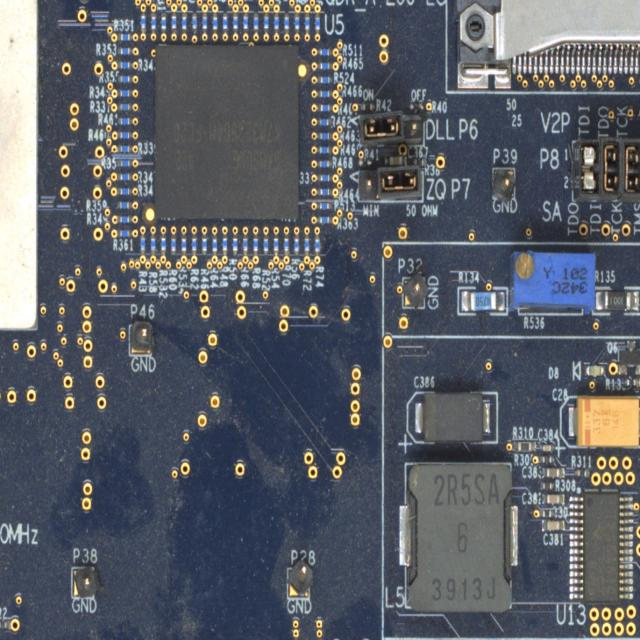IC: (154, 44, 298, 219), (0, 0, 38, 332), (568, 488, 634, 604)
LED: (583, 362, 605, 378)
capacitor: (540, 518, 566, 530), (384, 154, 406, 167), (543, 466, 565, 478), (542, 493, 564, 505), (539, 443, 554, 452)
component text: (428, 472, 502, 602), (170, 118, 283, 174), (0, 0, 10, 305), (591, 404, 622, 440), (540, 263, 590, 281), (547, 280, 588, 295), (474, 294, 491, 309), (611, 294, 624, 306)
connector: (440, 0, 640, 98), (402, 272, 428, 310), (287, 559, 312, 598), (127, 321, 154, 356), (70, 565, 97, 597), (491, 167, 515, 202), (358, 170, 379, 202), (403, 115, 424, 146)
electrolytic capacitor: (405, 391, 498, 444), (558, 394, 640, 449)
inductor: (399, 462, 518, 612)
jumper: (571, 139, 600, 201), (376, 165, 423, 203), (360, 109, 403, 146), (600, 138, 622, 202), (622, 138, 640, 202)
pads: (407, 102, 424, 111), (357, 158, 372, 168)
potentiometer: (510, 249, 595, 313)
resistor: (456, 286, 508, 316), (594, 286, 640, 316), (512, 440, 536, 453), (292, 233, 300, 256), (159, 11, 167, 34), (115, 228, 132, 238), (149, 12, 157, 33), (180, 233, 187, 256), (313, 233, 320, 256), (116, 45, 132, 55), (116, 74, 132, 84), (116, 158, 132, 168), (538, 454, 554, 464), (200, 233, 207, 255), (231, 234, 238, 256), (139, 11, 146, 33), (170, 11, 177, 33), (180, 11, 187, 33), (116, 32, 133, 41), (115, 214, 132, 223), (241, 12, 249, 31), (117, 60, 132, 70), (117, 116, 132, 126), (117, 130, 132, 140), (317, 60, 332, 70), (160, 234, 167, 255), (190, 233, 197, 254), (241, 234, 248, 255), (272, 234, 279, 255), (252, 11, 259, 32), (262, 12, 269, 33), (272, 12, 279, 33), (293, 12, 300, 33), (116, 88, 132, 97), (116, 102, 132, 111), (116, 187, 132, 196), (116, 200, 132, 209), (316, 187, 332, 196), (316, 201, 332, 210), (139, 234, 146, 254), (211, 12, 218, 32), (317, 159, 331, 169), (540, 480, 554, 490), (540, 508, 554, 518), (170, 233, 176, 256), (117, 172, 132, 181), (316, 75, 331, 84), (316, 89, 331, 98), (317, 103, 332, 112), (316, 117, 331, 126), (316, 214, 331, 223), (359, 102, 374, 111), (149, 234, 156, 253), (211, 234, 217, 256), (252, 233, 258, 255), (304, 12, 310, 34), (116, 144, 132, 152), (221, 234, 227, 255), (262, 234, 268, 255), (282, 233, 288, 254), (303, 234, 309, 255), (191, 12, 197, 33), (201, 11, 207, 32), (283, 12, 289, 33), (317, 47, 331, 56), (317, 131, 331, 140), (317, 145, 331, 154), (317, 173, 331, 182), (624, 378, 638, 387), (222, 12, 228, 32), (314, 13, 320, 33), (411, 158, 426, 166), (232, 13, 238, 31), (0, 620, 10, 629)
transistor: (617, 339, 640, 375)
